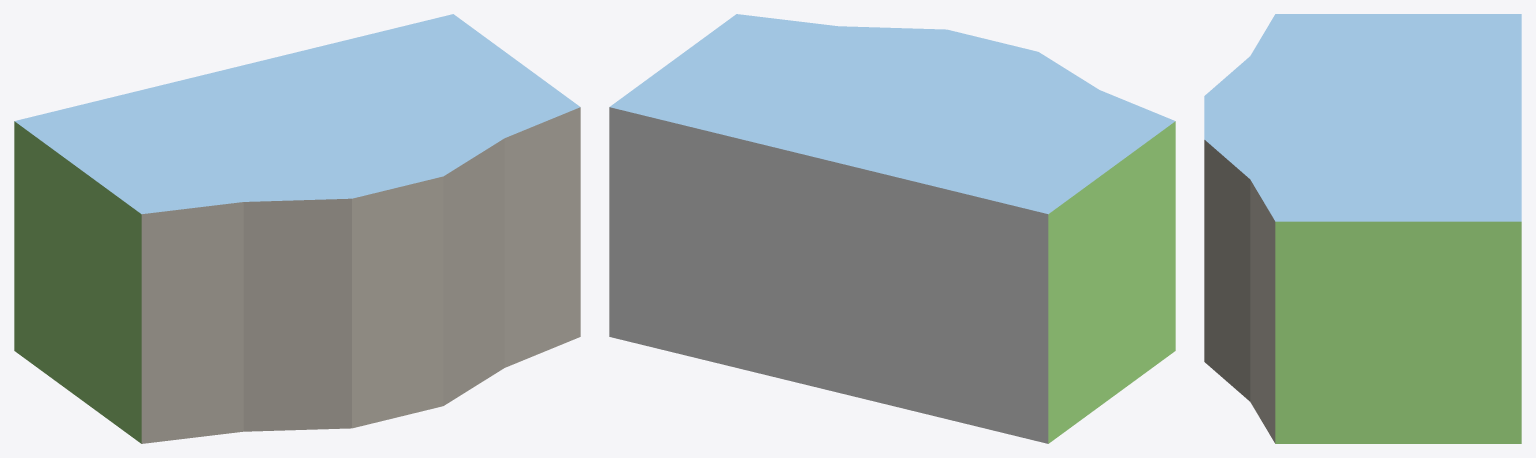
Rendered from Wall_Straight_Deformed_Convex_2x2_Mid.glb.
The picture shows the model from 3 angles, left to right: view 1: azimuth 30°, elevation 25°; view 2: azimuth 150°, elevation 25°; view 3: azimuth 270°, elevation 25°; orthographic projection. The views are drawn at different scales.
Parts seen in each view (by area): view 1: Wall_Straight_Deformed_Convex_2x2_Mid; view 2: Wall_Straight_Deformed_Convex_2x2_Mid; view 3: Wall_Straight_Deformed_Convex_2x2_Mid.
Part boxes in pixels (x1,y1,x2,y2): Wall_Straight_Deformed_Convex_2x2_Mid: (14, 14, 580, 443); Wall_Straight_Deformed_Convex_2x2_Mid: (609, 14, 1175, 443); Wall_Straight_Deformed_Convex_2x2_Mid: (1204, 14, 1521, 443).
Size of the model in its own units: 200 by 100 by 129.
